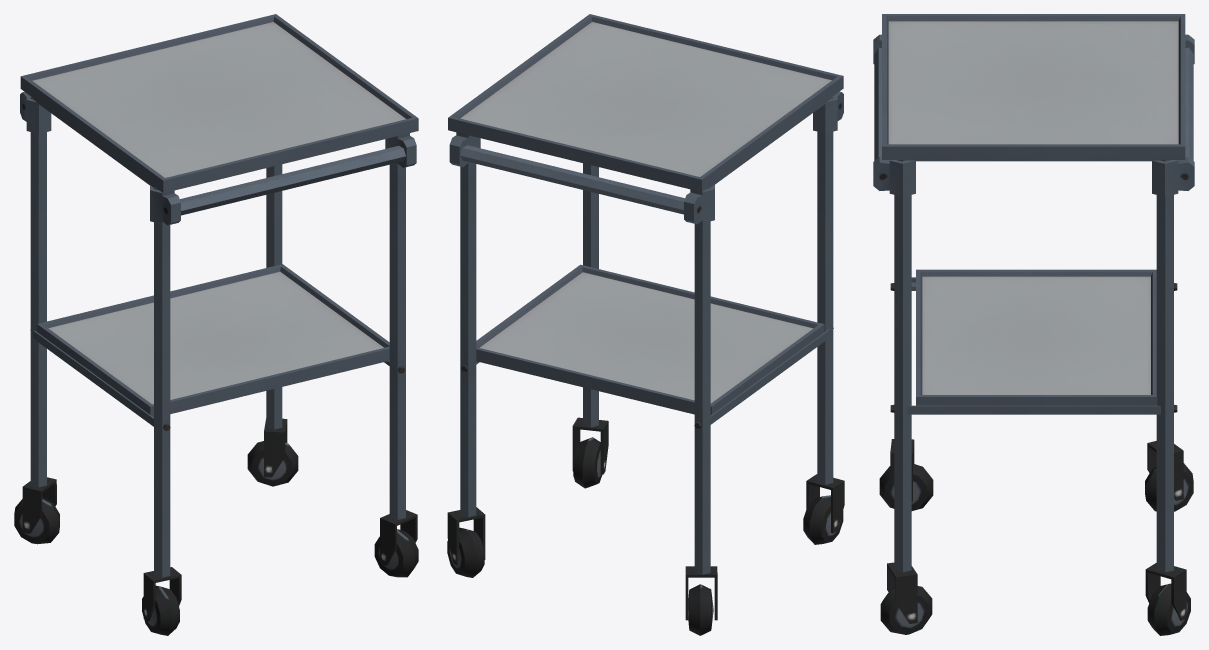
Rendered from Trolley_Square.fbx.
The picture shows the model from 3 angles, left to right: view 1: azimuth 30°, elevation 25°; view 2: azimuth 150°, elevation 25°; view 3: azimuth 270°, elevation 25°; orthographic projection. The views are drawn at different scales.
Visible parts, largest first — view 1: Trolley_Square; view 2: Trolley_Square; view 3: Trolley_Square.
Boxes of the visible parts, x1,y1,x2,y2 form: Trolley_Square: (14, 14, 418, 635); Trolley_Square: (447, 14, 844, 635); Trolley_Square: (873, 14, 1194, 635).
Bounding box in the file's own units: 42.18 × 68.76 × 40.5.
1 material, 1 textured.
